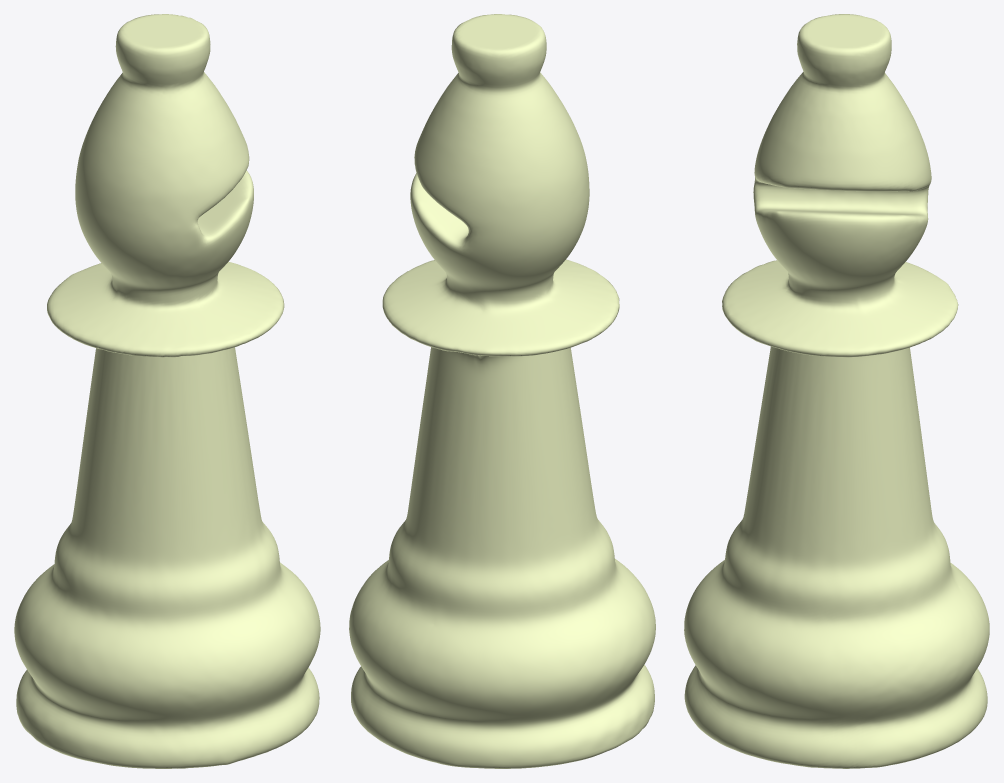
Rendered from Bishop.fbx.
The picture shows the model from 3 angles, left to right: view 1: azimuth 30°, elevation 25°; view 2: azimuth 150°, elevation 25°; view 3: azimuth 270°, elevation 25°; orthographic projection.
Visible parts, largest first — view 1: Biship.002; view 2: Biship.002; view 3: Biship.002.
Part boxes in pixels (bbox=[...]): Biship.002: bbox=[14, 14, 320, 768]; Biship.002: bbox=[349, 14, 655, 768]; Biship.002: bbox=[684, 14, 989, 768].
Bounding box in the file's own units: 3.07 × 7.49 × 3.06.
